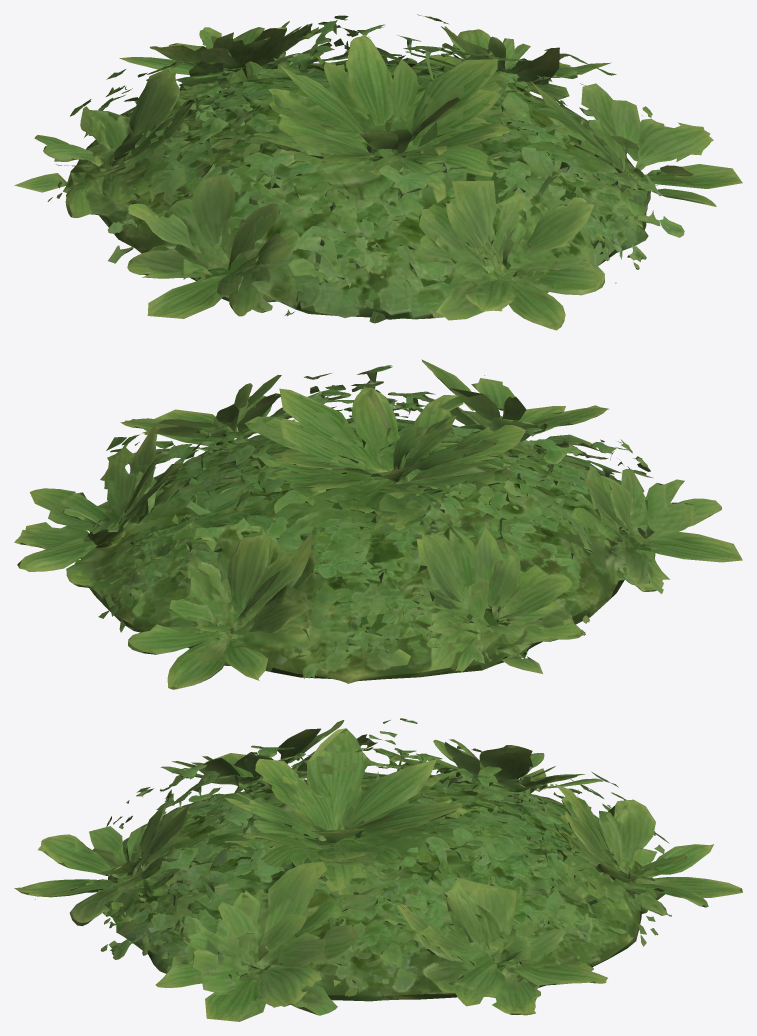
The model's file is meadows_cover_clover_b.glb.
3 renders of one model, top to bottom at view 1: azimuth 30°, elevation 25°; view 2: azimuth 150°, elevation 25°; view 3: azimuth 270°, elevation 25°, orthographic. The views are drawn at different scales.
Parts seen in each view (by area): view 1: Mesh_0; view 2: Mesh_0; view 3: Mesh_0.
Part boxes in pixels (x1,y1,x2,y2): Mesh_0: (14,14,742,330); Mesh_0: (14,359,742,689); Mesh_0: (14,718,742,1021).
Size of the model in its own units: 1.64 by 0.335 by 1.88.
Materials: 1 (1 with a texture image).
